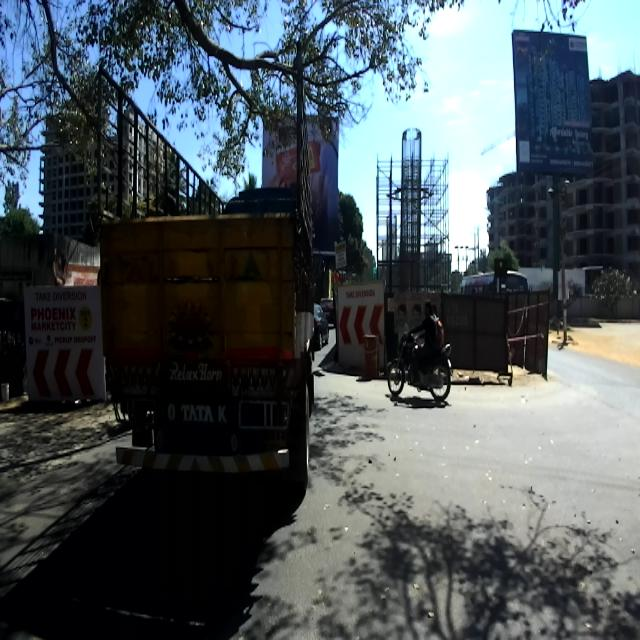motorcycle ahead at: (385, 327, 456, 409)
tree ahead at: (93, 47, 320, 496)
